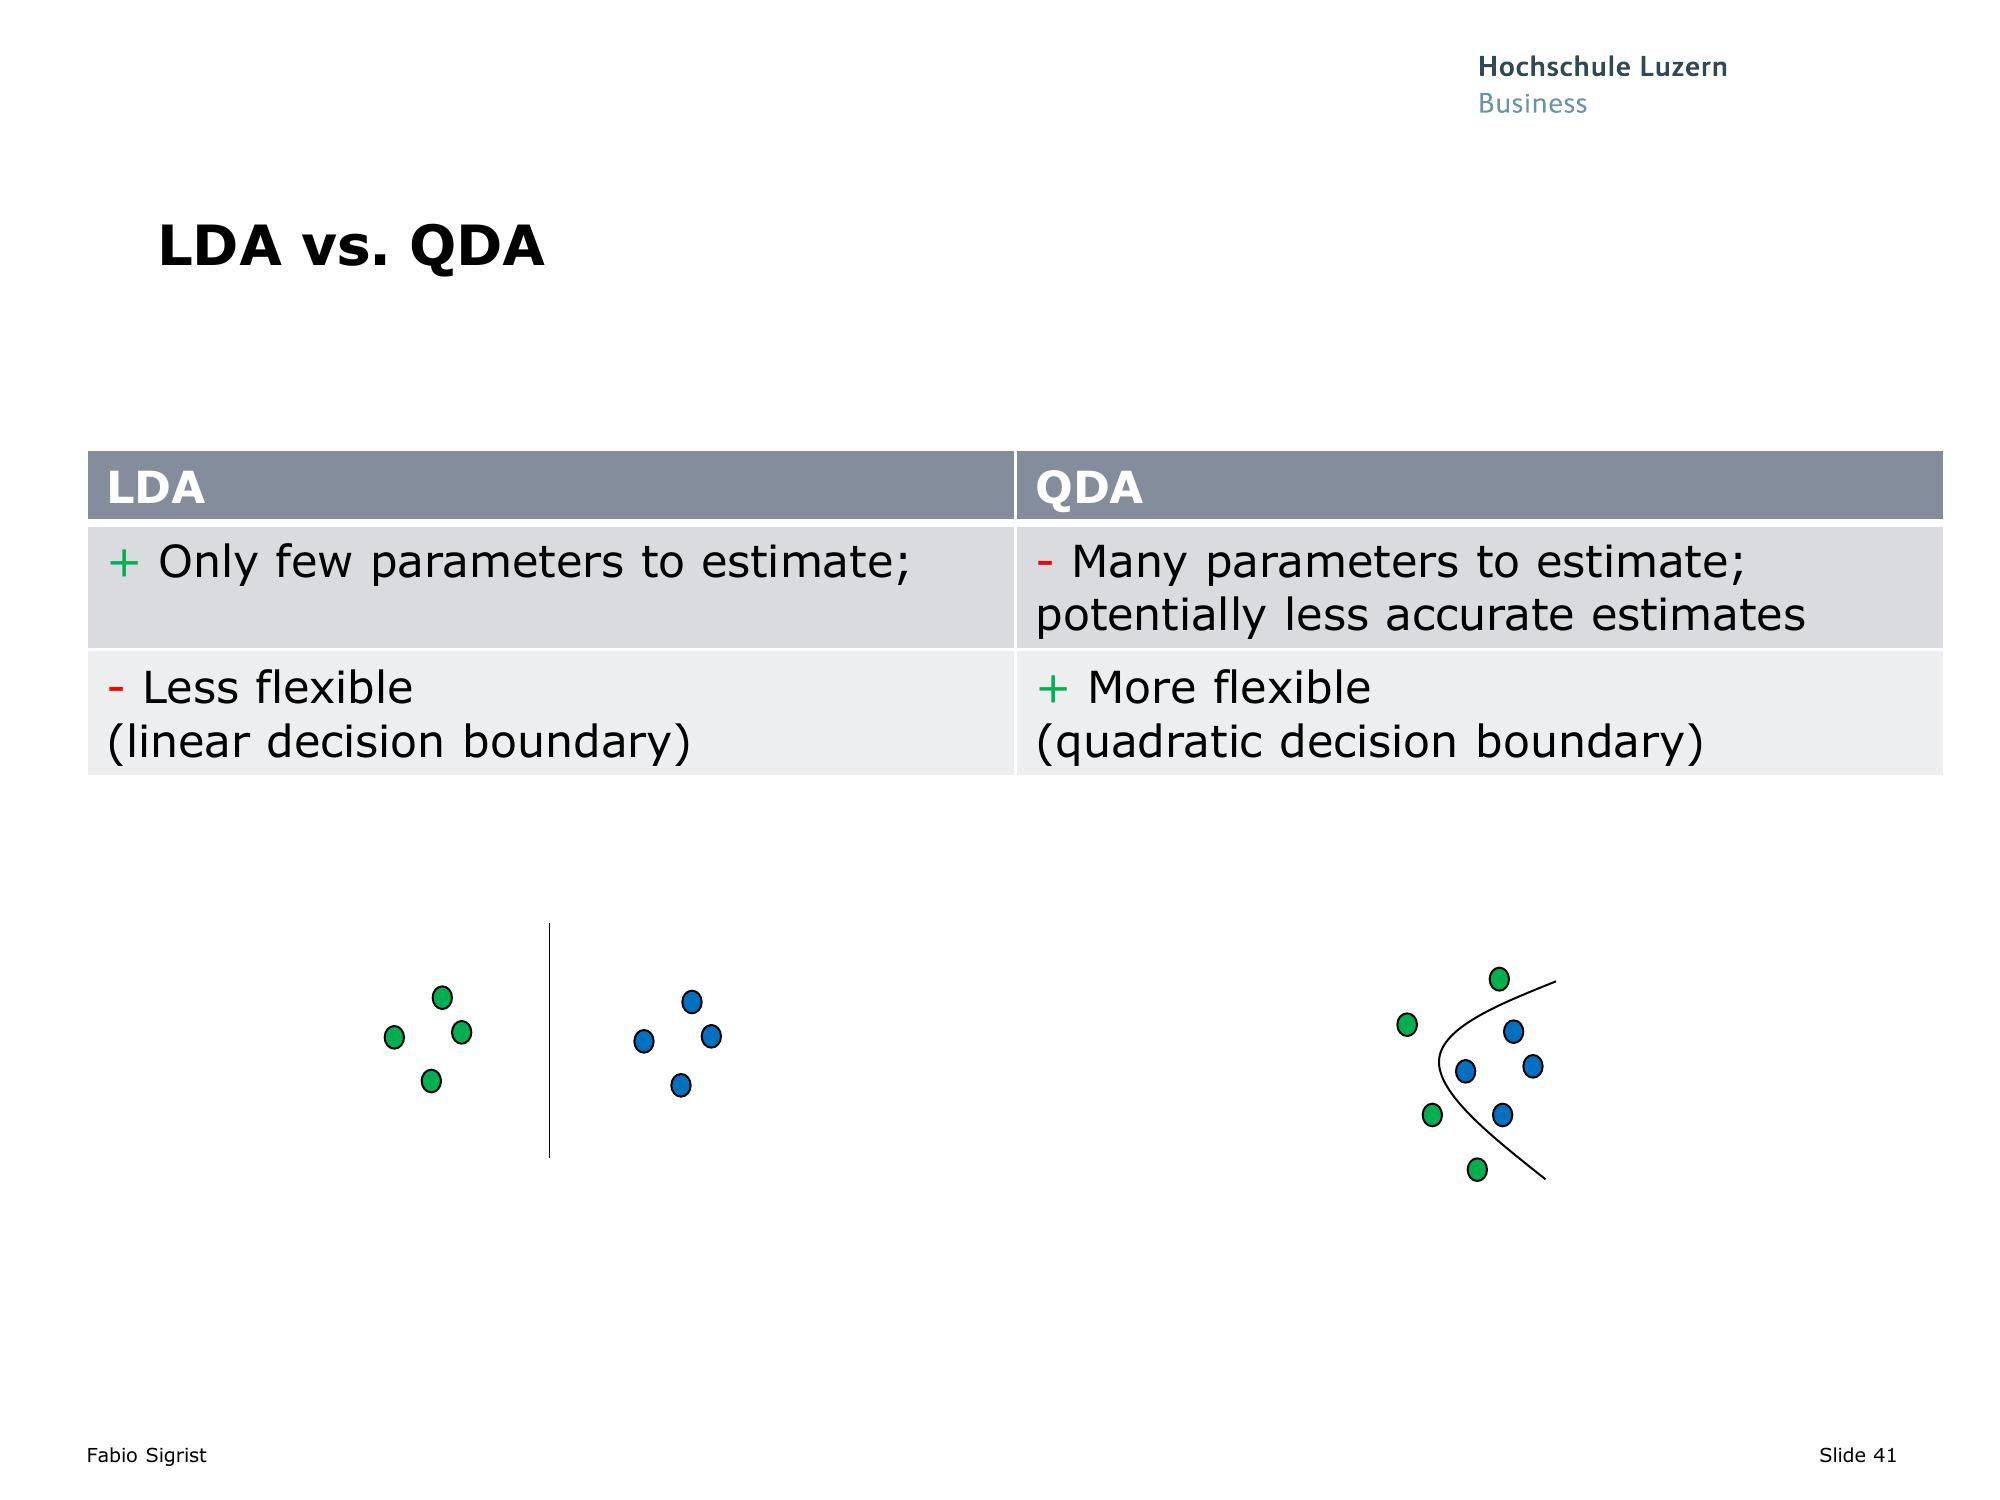Title: (132, 206, 561, 291)
